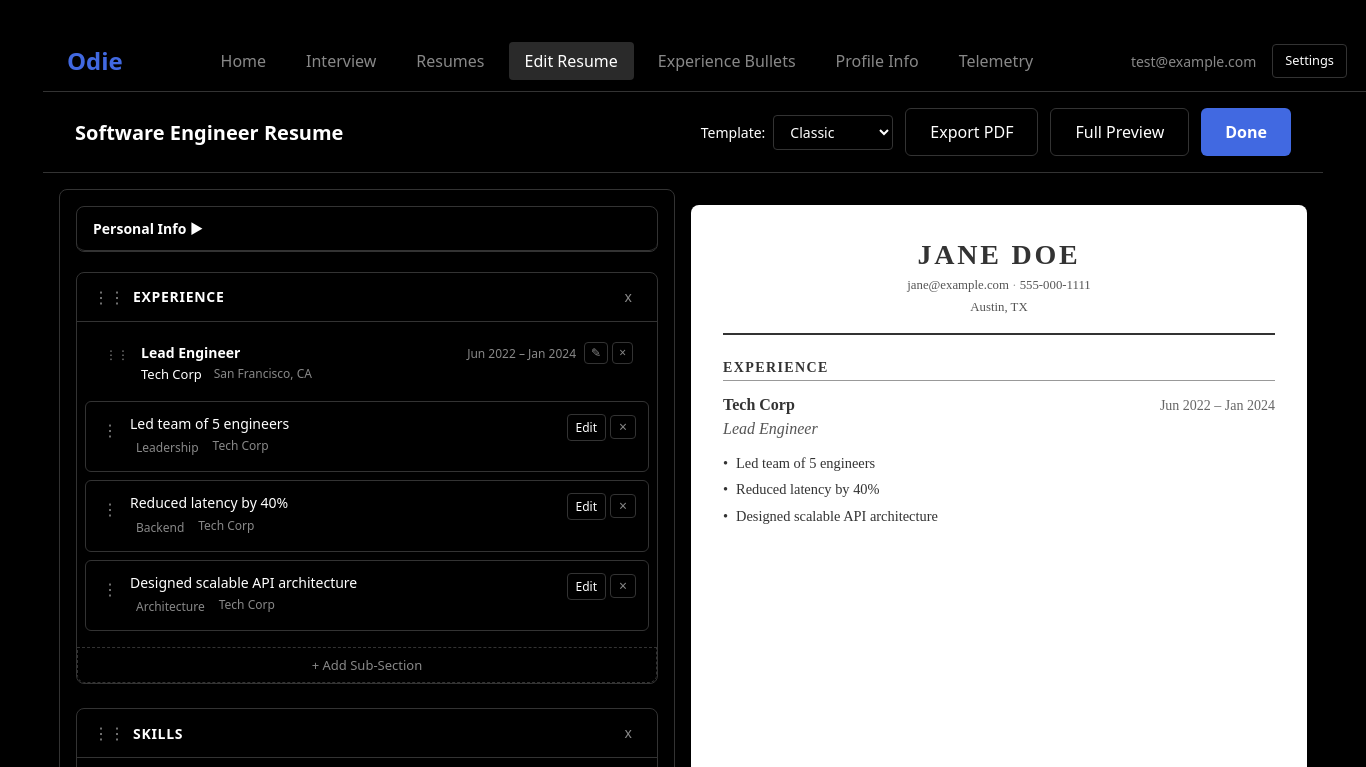
Test case: ResumeBuilderPage › should close inline editor on cancel
// Open inline editor
Click the button with test id "edit-bullet-bullet-1" at (586, 427), box 566,414 -> 606,440
(page scrolled)
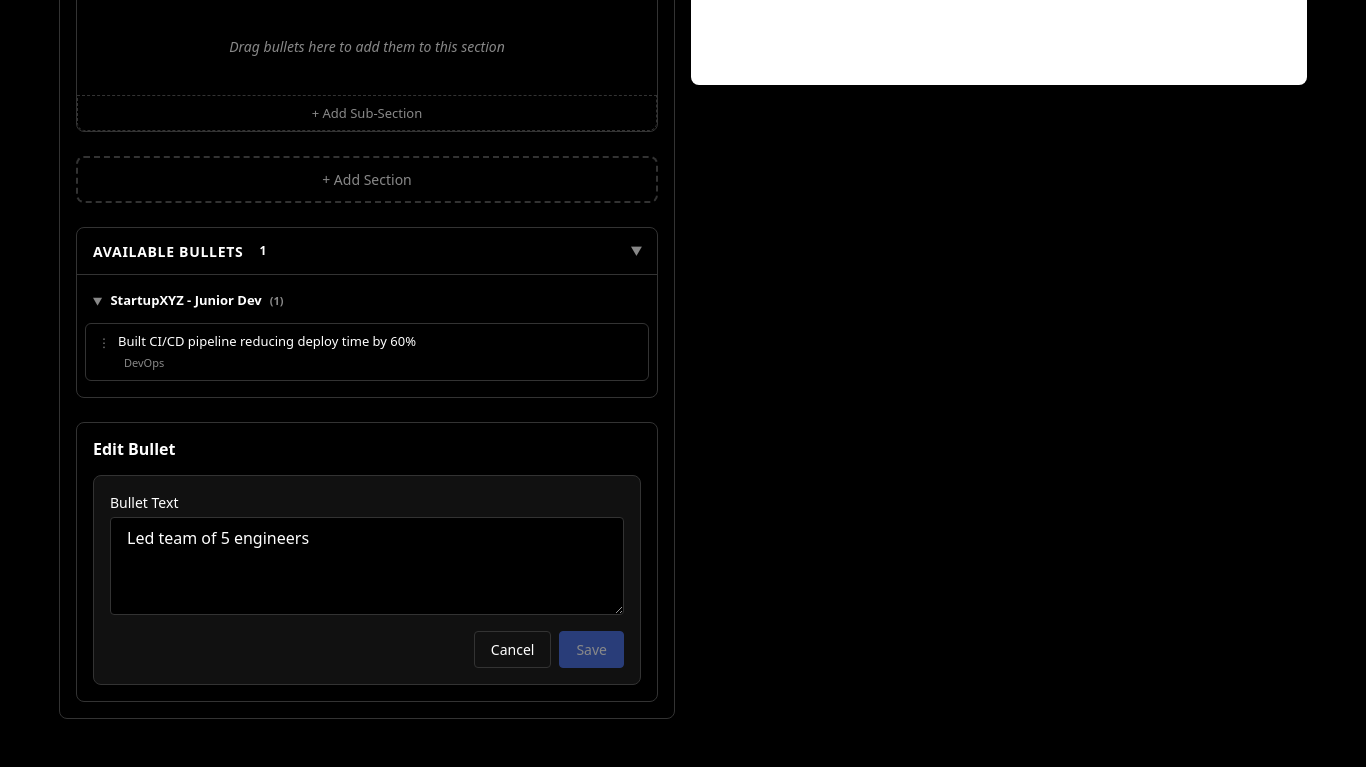
Check: the element with test id "inline-editor" is shown, box 76,422 -> 658,702
// Cancel should close the editor
Click the button "Cancel" at (513, 650), box 474,632 -> 551,668
(page scrolled)
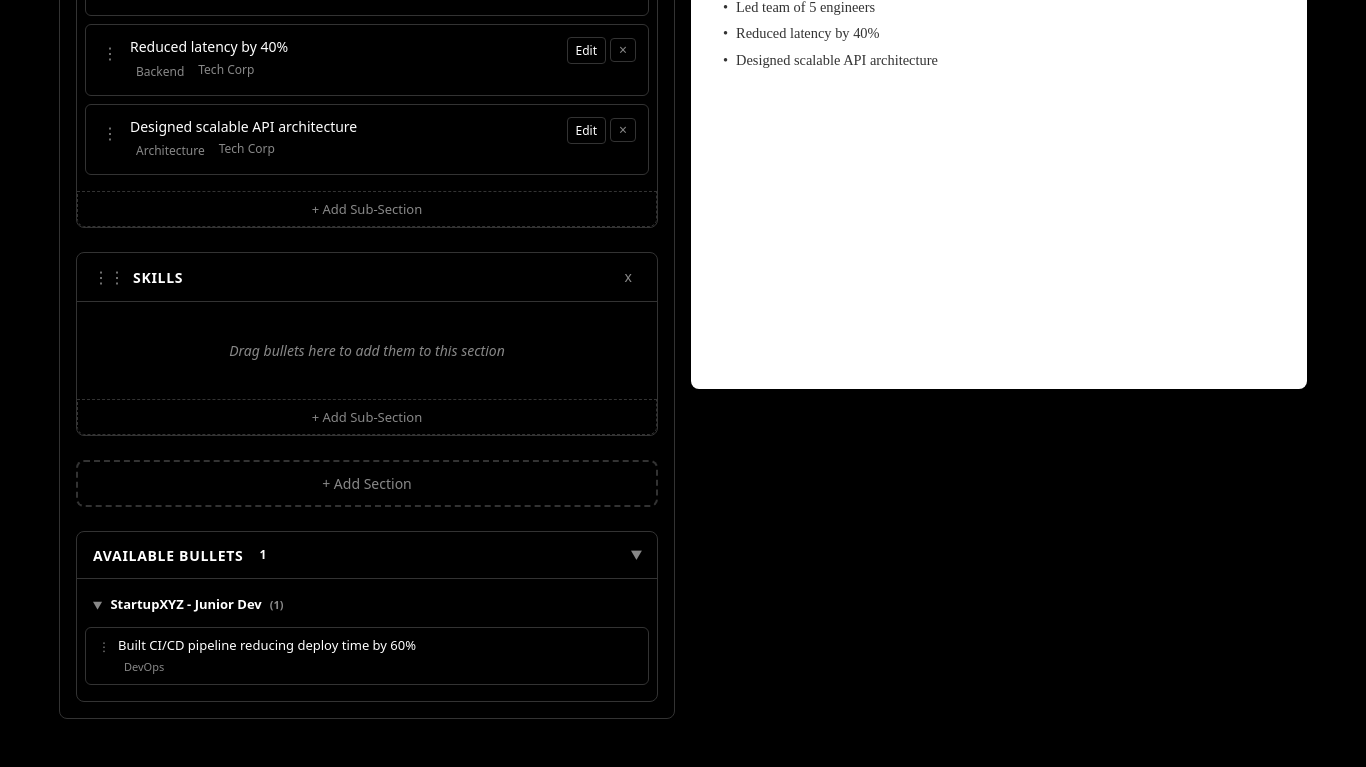
Check: the element with test id "inline-editor" is gone
